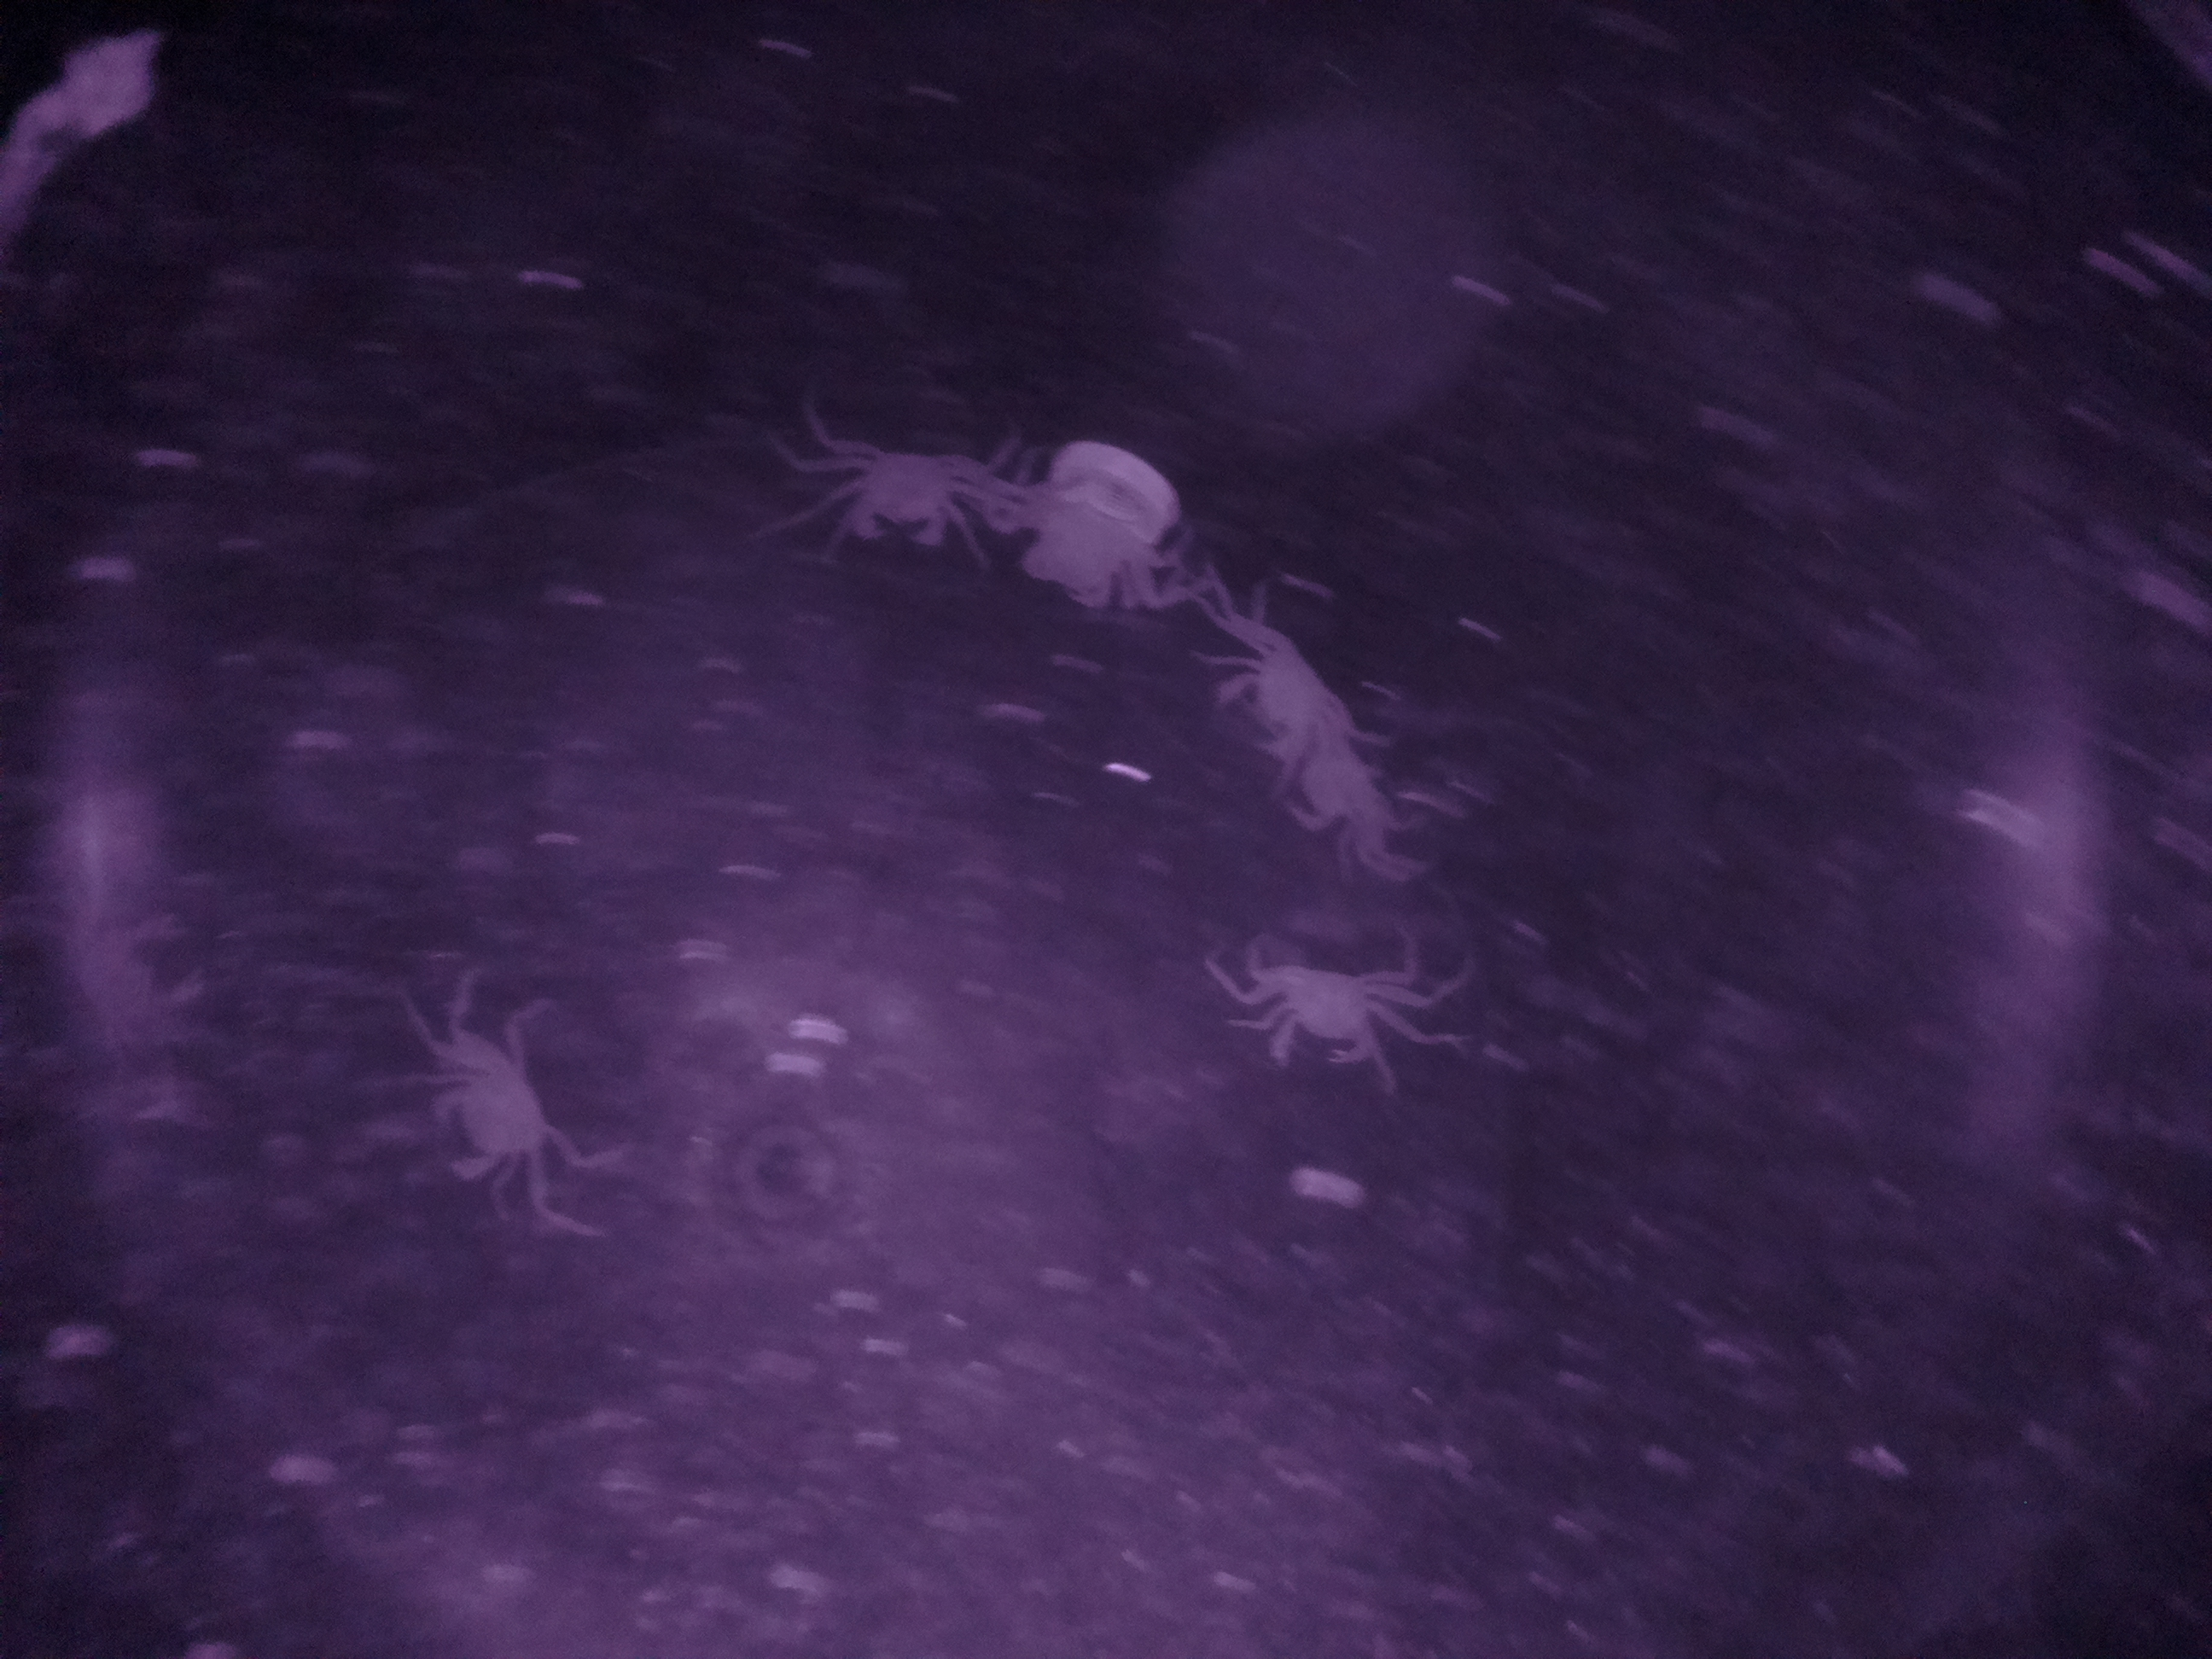Crab: (416, 978, 573, 1234), (1211, 927, 1442, 1080), (792, 416, 1012, 559)
